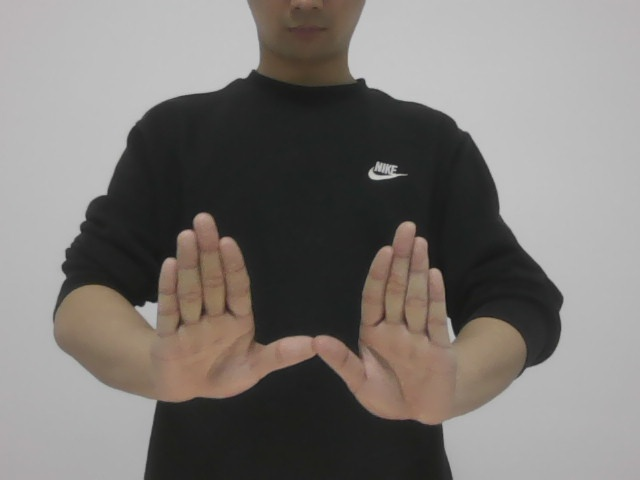door: (144, 202, 478, 431)
